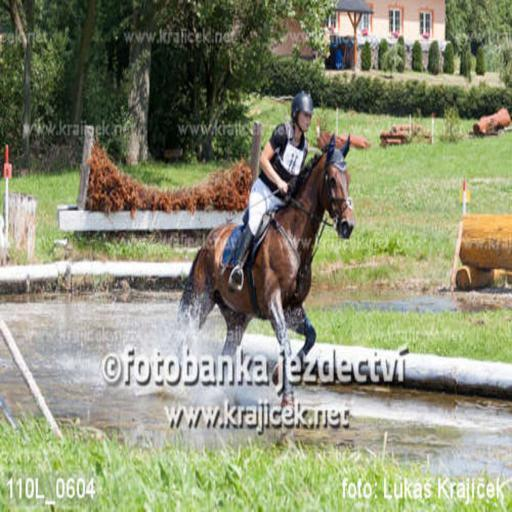horse: (174, 130, 355, 412)
